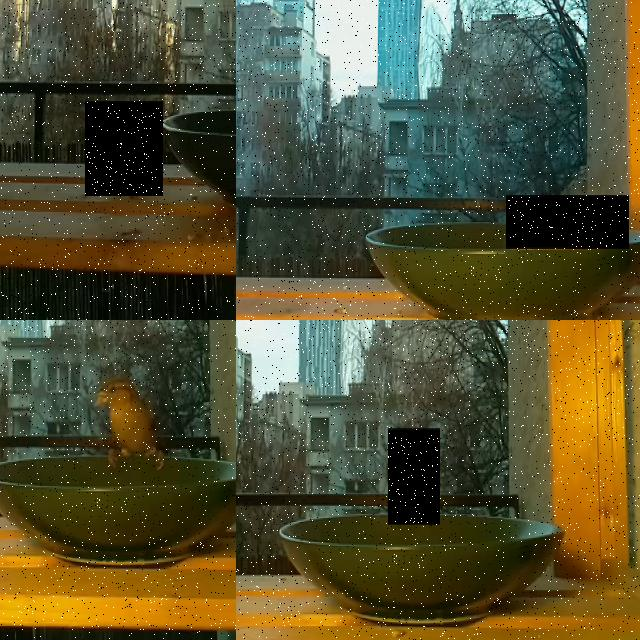Bogatka: (388, 428, 440, 524)
Modraszka: (85, 101, 163, 196), (506, 195, 629, 249)
Wrobel: (94, 378, 168, 470)
